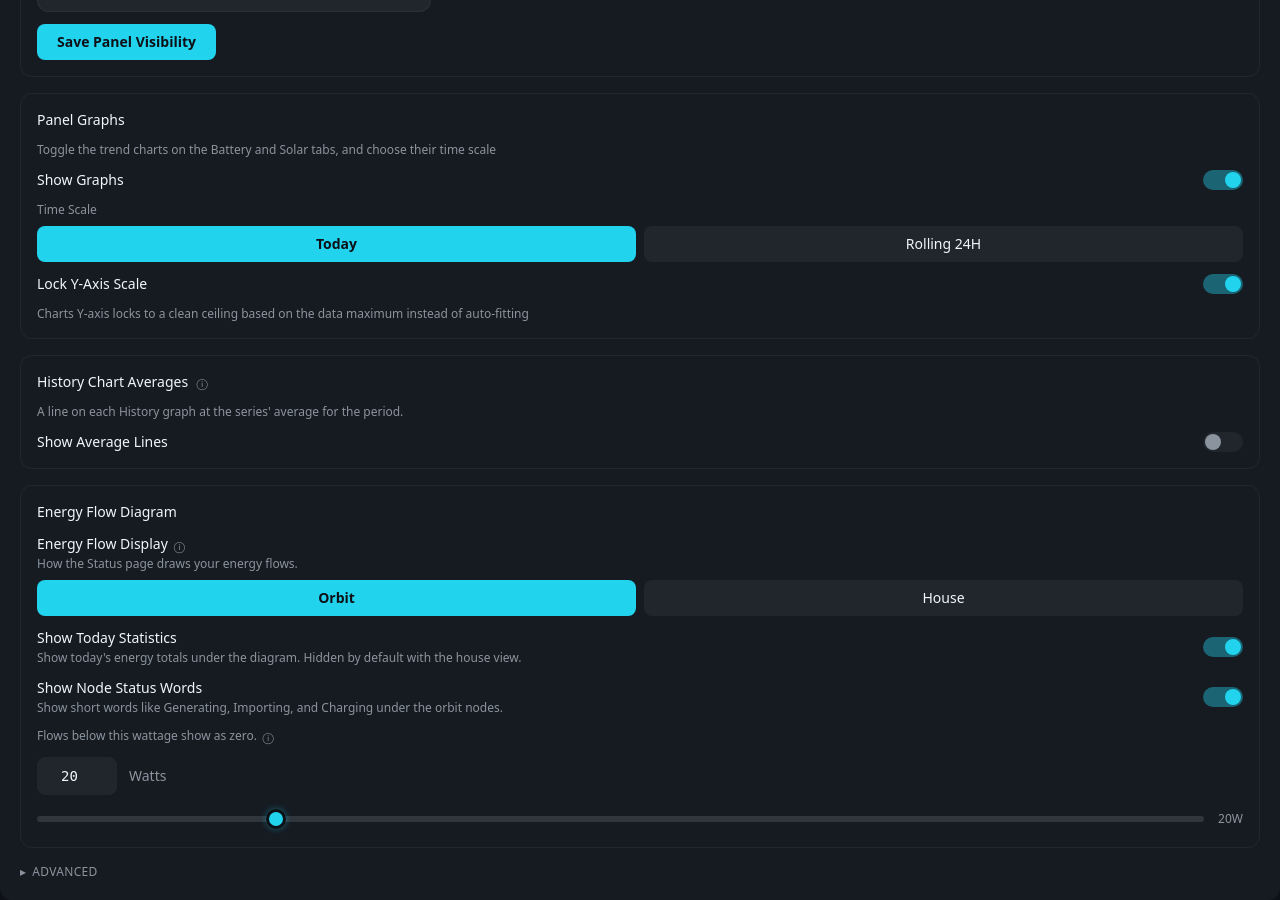
it: <PanelControlsSection/> — Chart Grid Lines sub-section (issue #111) › render › renders the sub-section heading inside Panel Controls
(page scrolled)
Click the button "▸ Advanced". click: (59, 872)
box: 20,864 -> 98,880
(page scrolled)
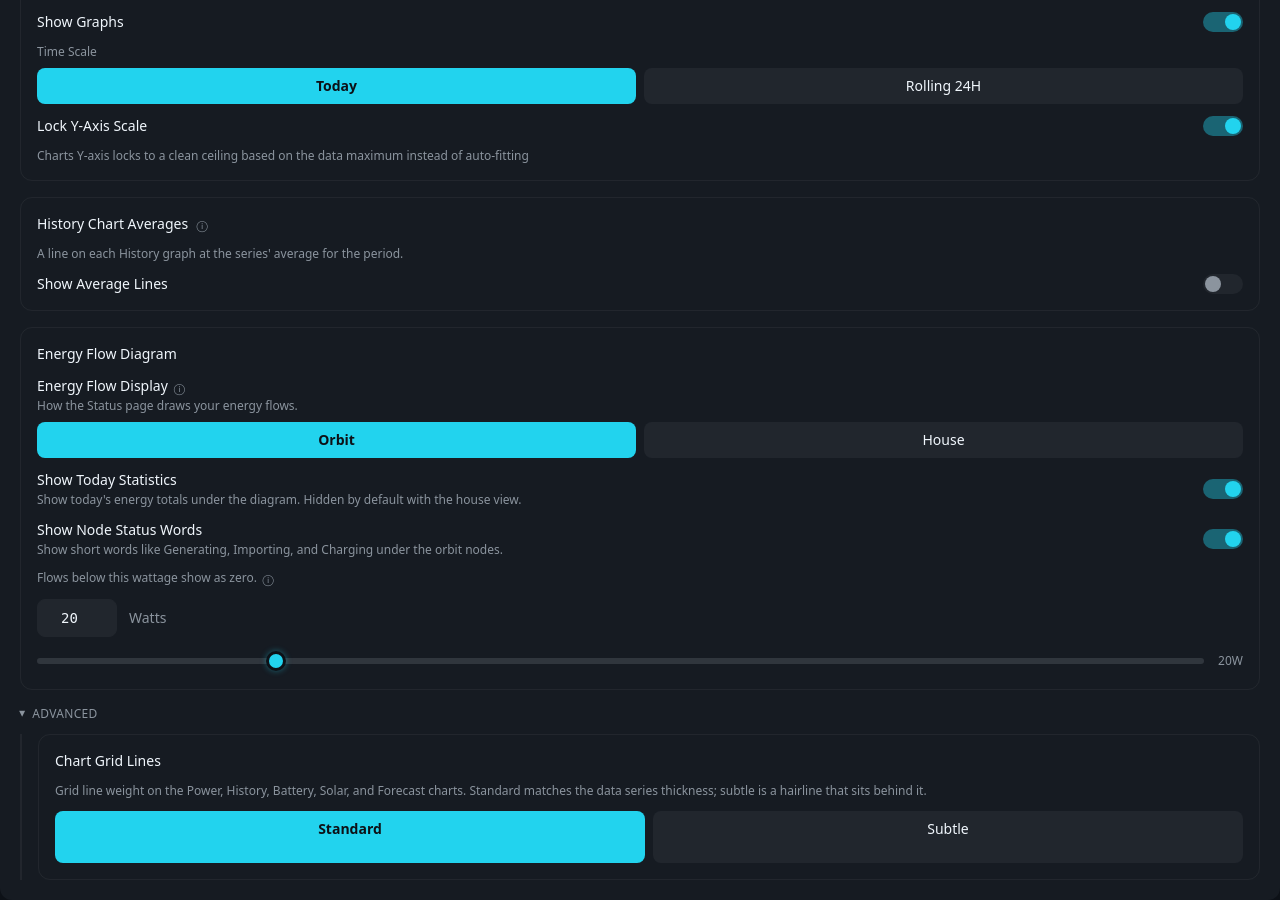
Expected: the heading "Chart Grid Lines" is shown, 55,751 -> 161,770
